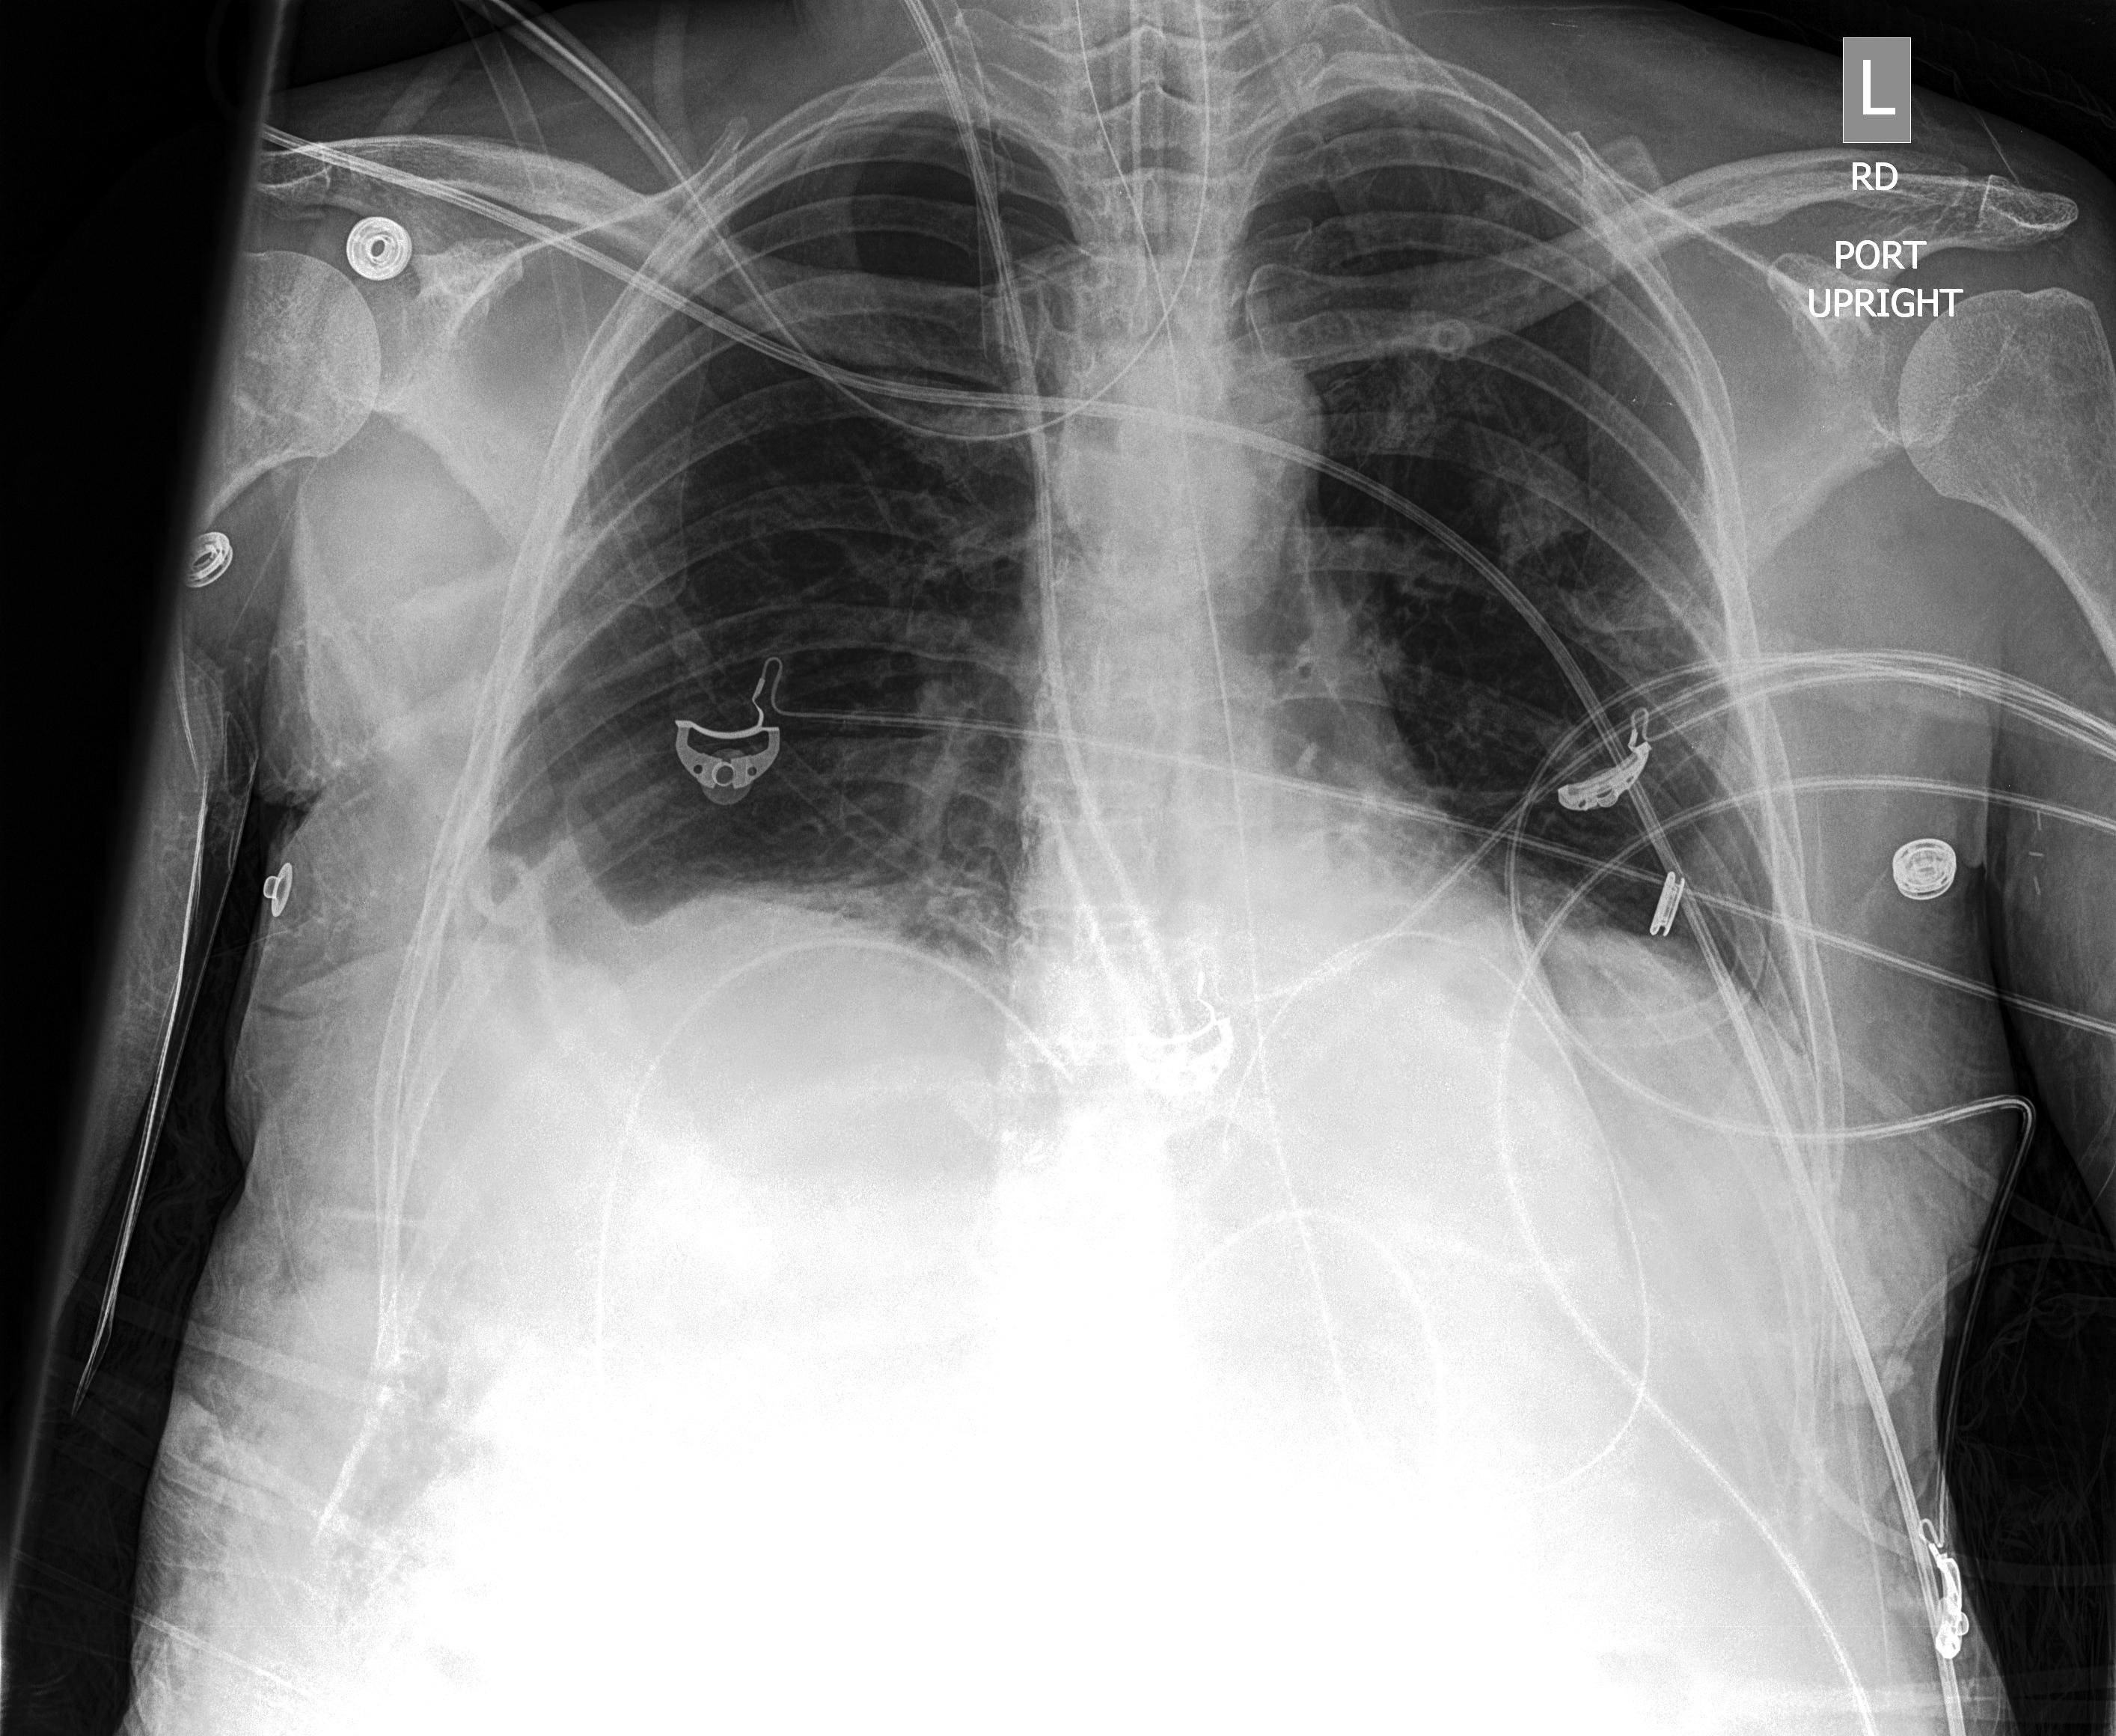Pleural Effusion: (408, 873, 891, 1325)
